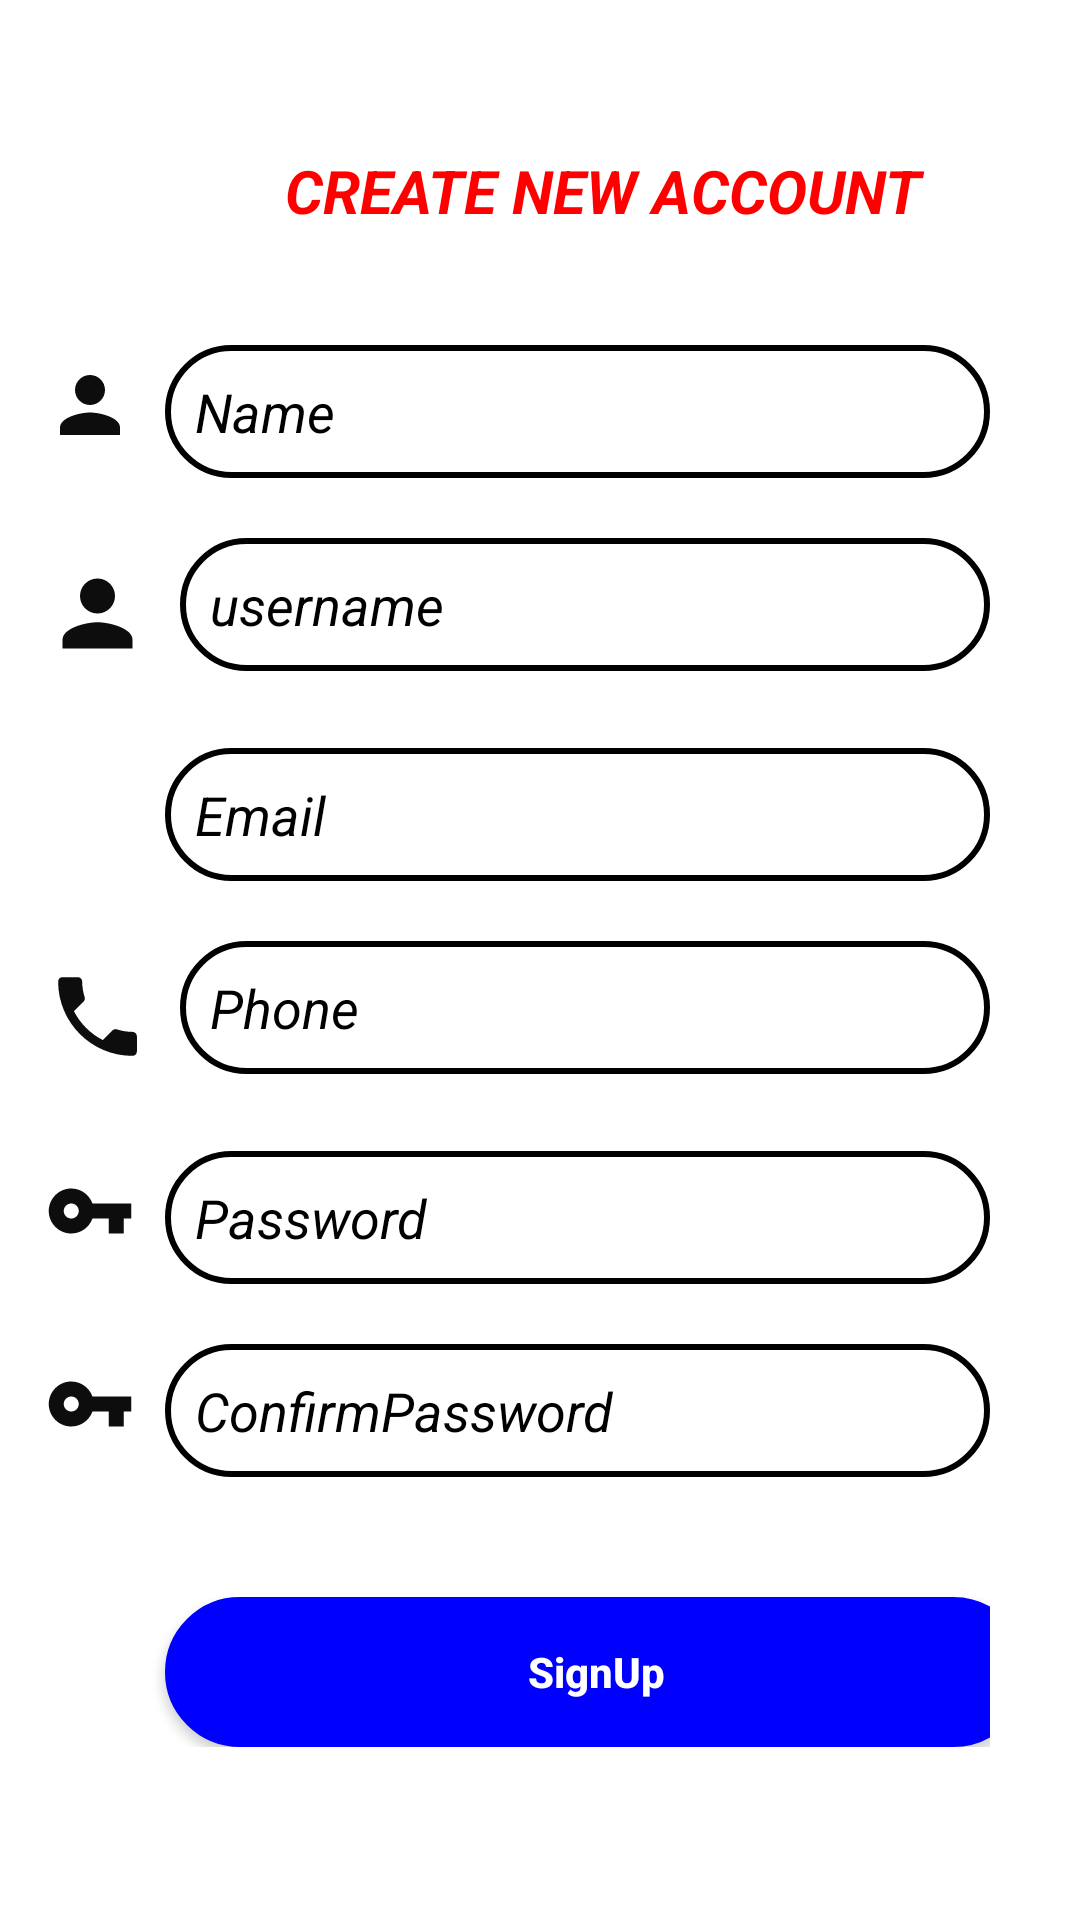

Where to tap for icons on this 1080x1920 app screen, as (x=x, y=y):
blackperson: (x=90, y=405), (x=97, y=613)
